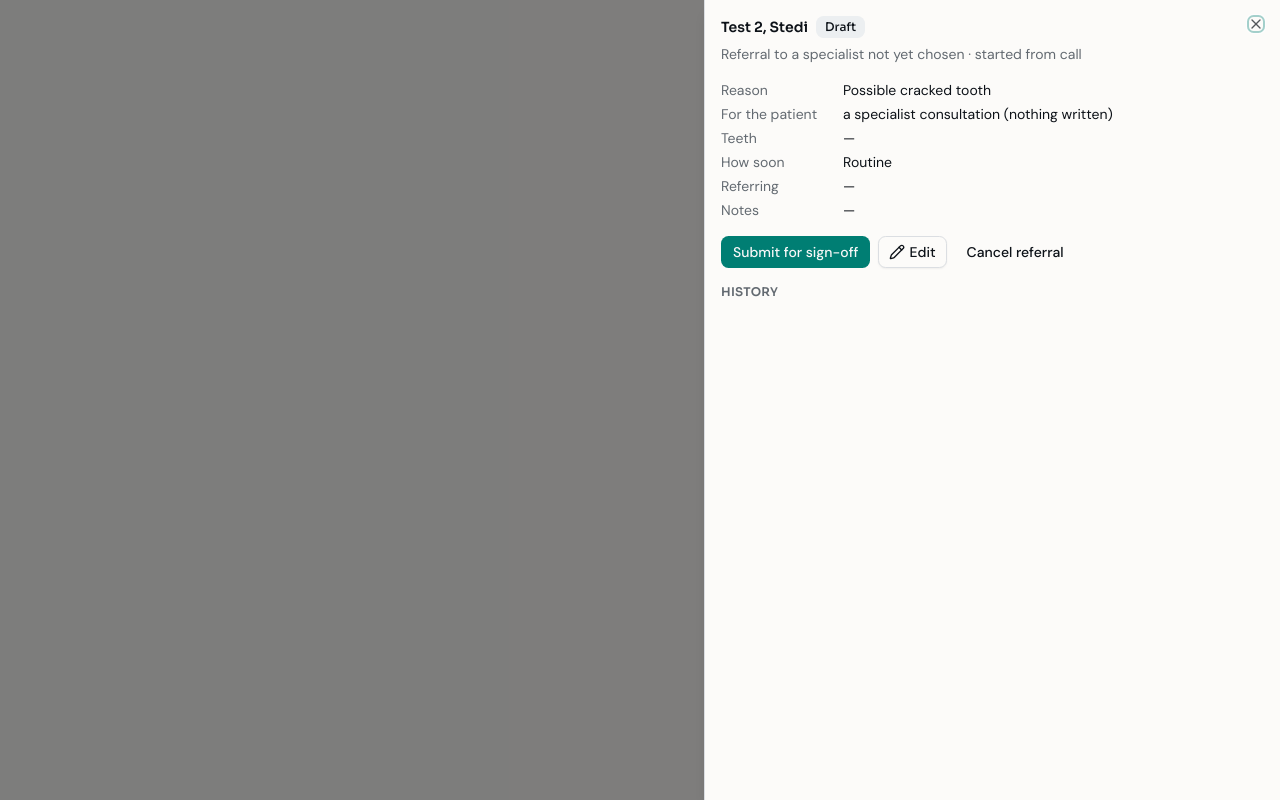
the detail panel's moves › cancel asks first; only 'Yes, cancel it' moves it
The image size is (1280, 800).
Check: the element with test id "tc-hub-actions" is shown, box [721,236,1076,268]
Click the button with test id "tc-hub-cancel" at (1015, 252), box [955,236,1076,268]
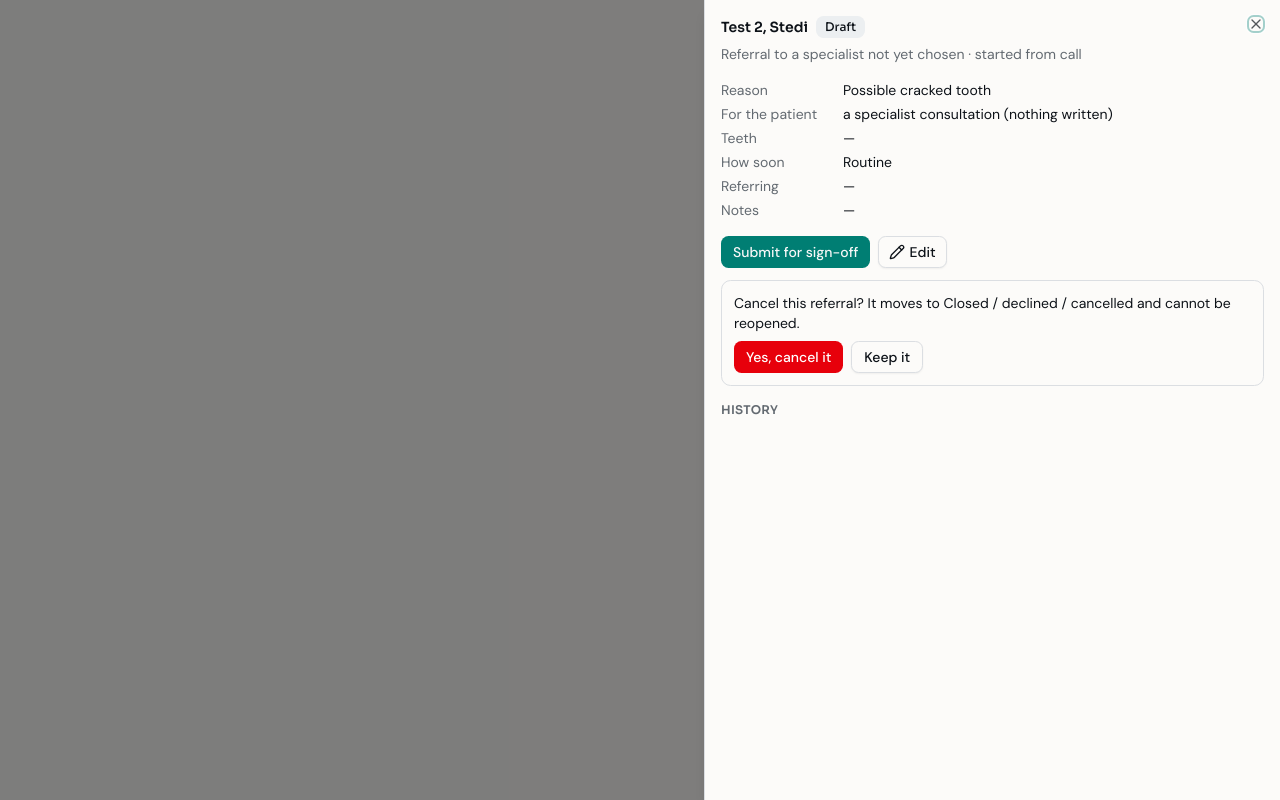
Click the button "Keep it" at (887, 357), box [851,341,923,373]
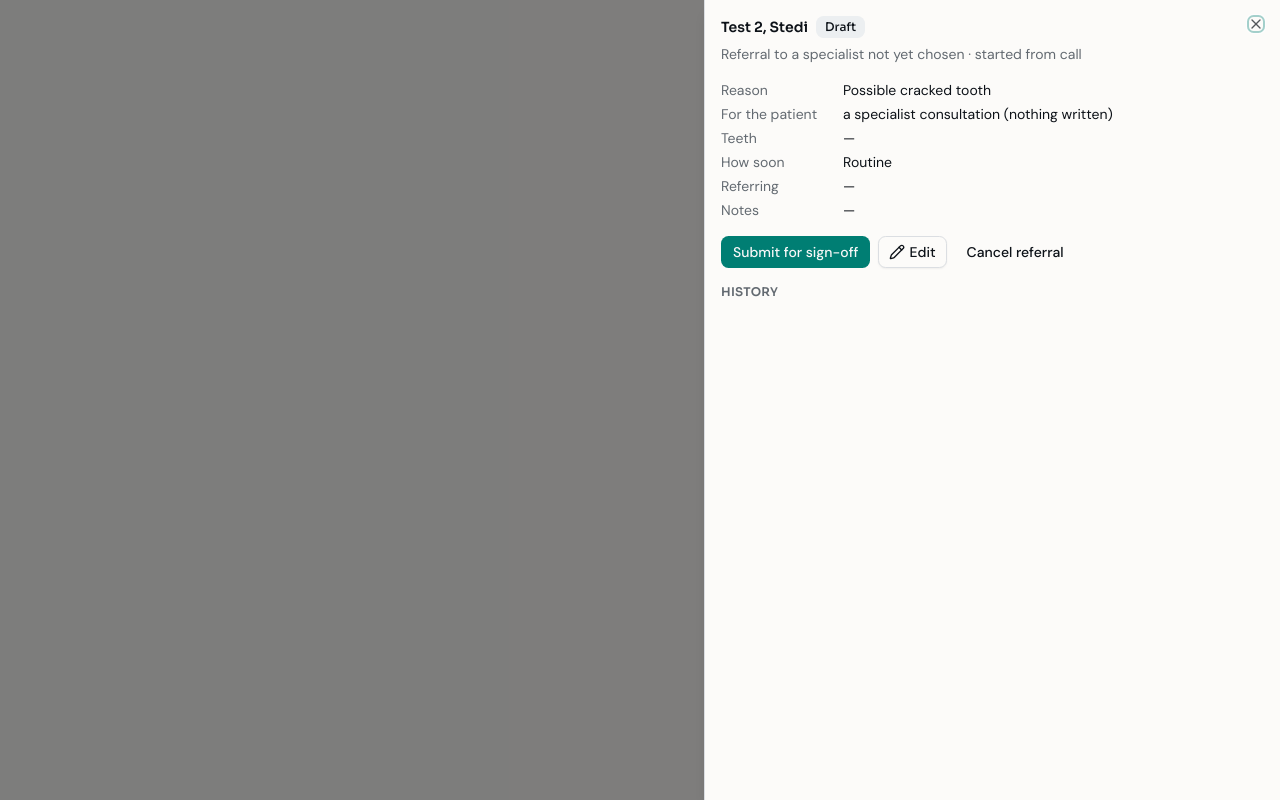
Check: the element with test id "tc-hub-cancel-confirm" is gone
Click the button with test id "tc-hub-cancel" at (1015, 252), box [955,236,1076,268]
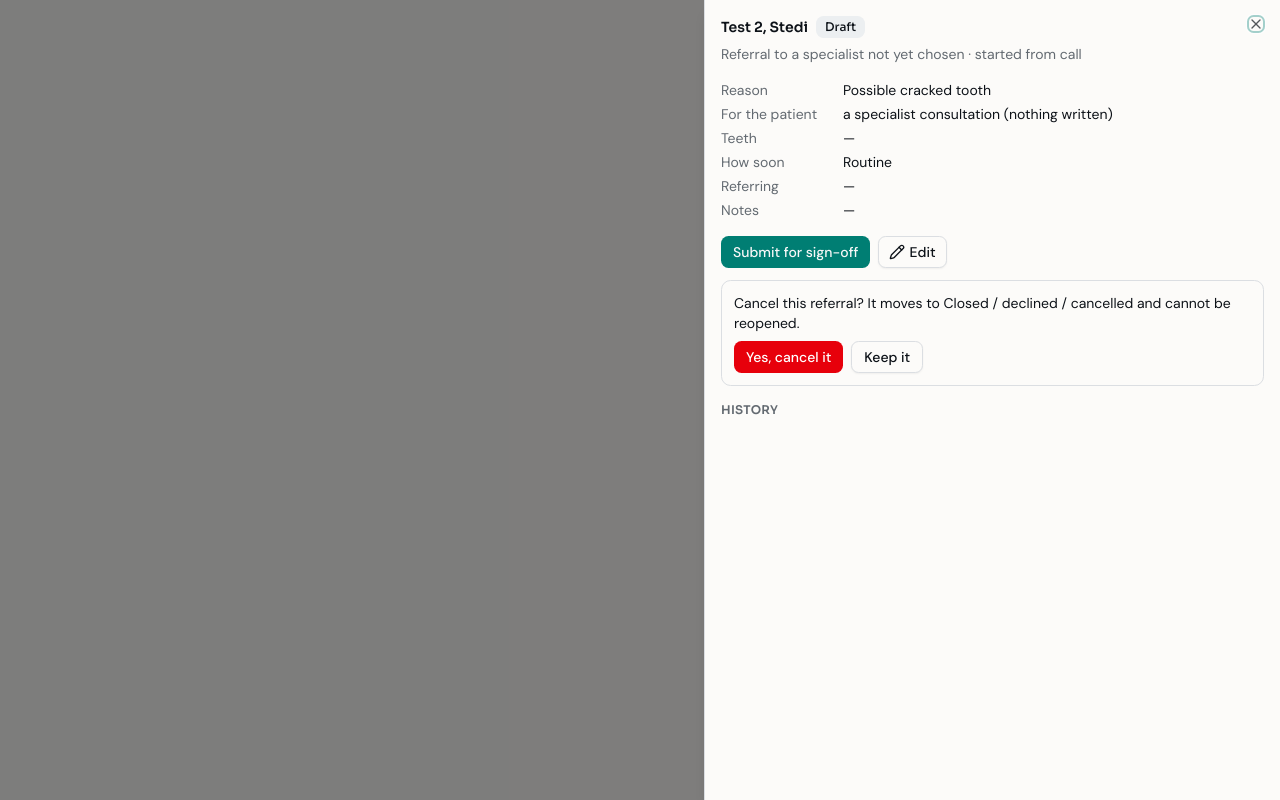
Click the button "Yes, cancel it" at (789, 357), box [734,341,843,373]
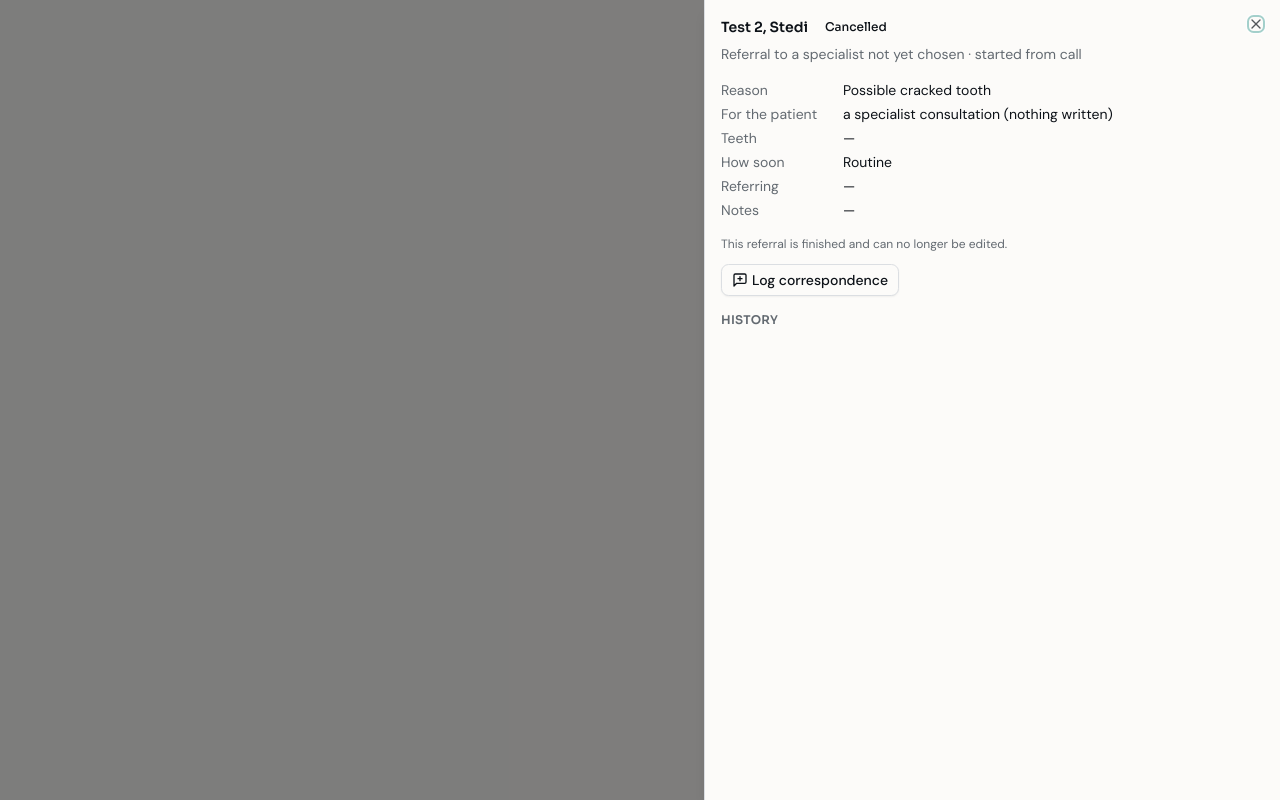
Check: the text with test id "tc-referral-status" reads "Cancelled", box [825,19,887,34]
Check: the text with test id "tc-hub-readonly" shows "finished", box [721,236,1007,252]
Check: the element with test id "tc-hub-moves" is gone
